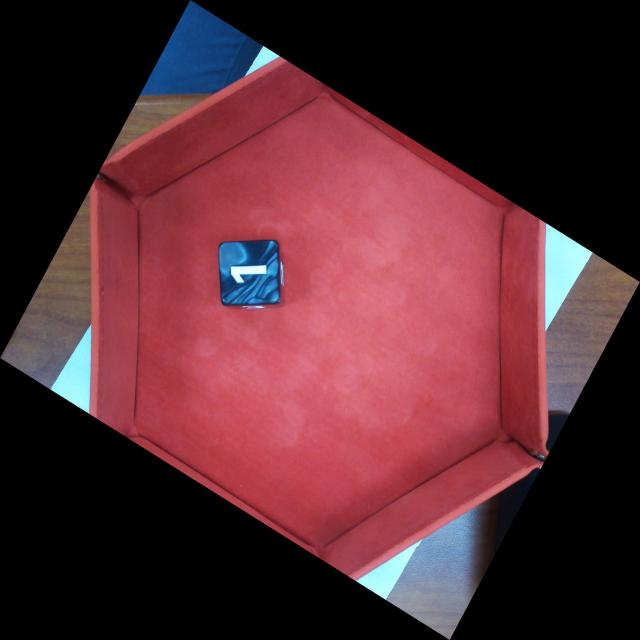dice: (218, 239, 281, 307)
